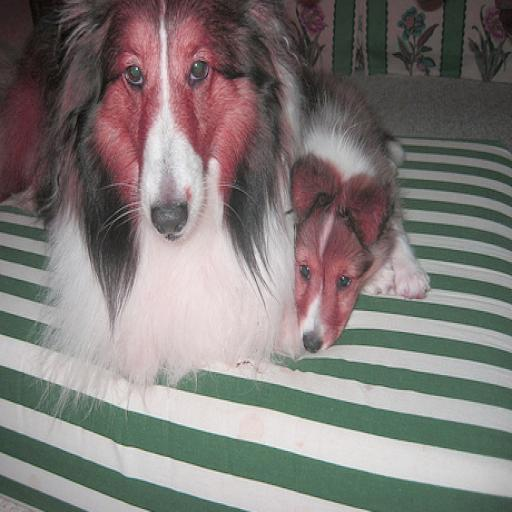dog_face: (59, 0, 264, 243), (287, 185, 382, 348)
